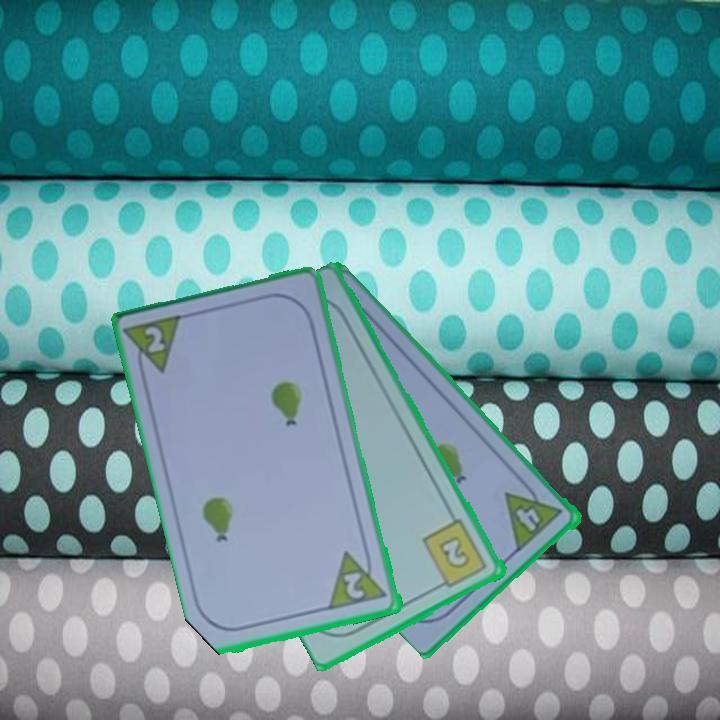2b: (419, 516, 491, 592)
2p: (326, 544, 391, 613), (141, 322, 169, 357)
4p: (501, 475, 566, 554)
